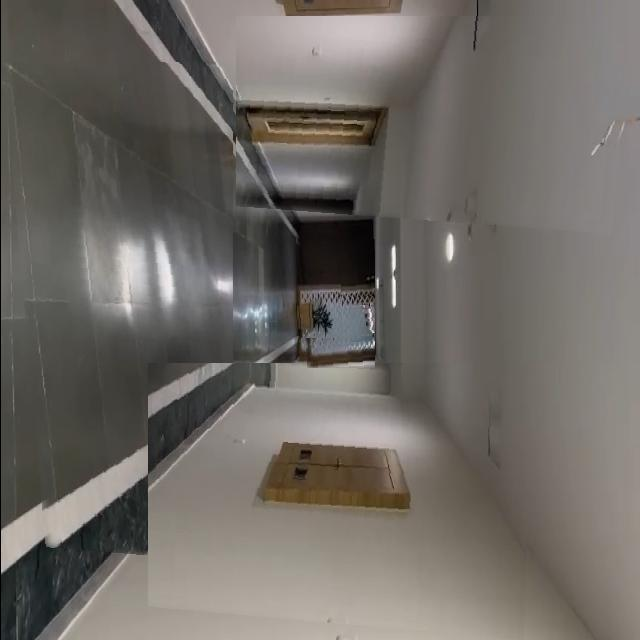door: (295, 233, 374, 368)
floor: (0, 62, 232, 566)
furniture: (292, 284, 340, 338)
wall: (147, 363, 532, 640), (235, 16, 632, 234)
